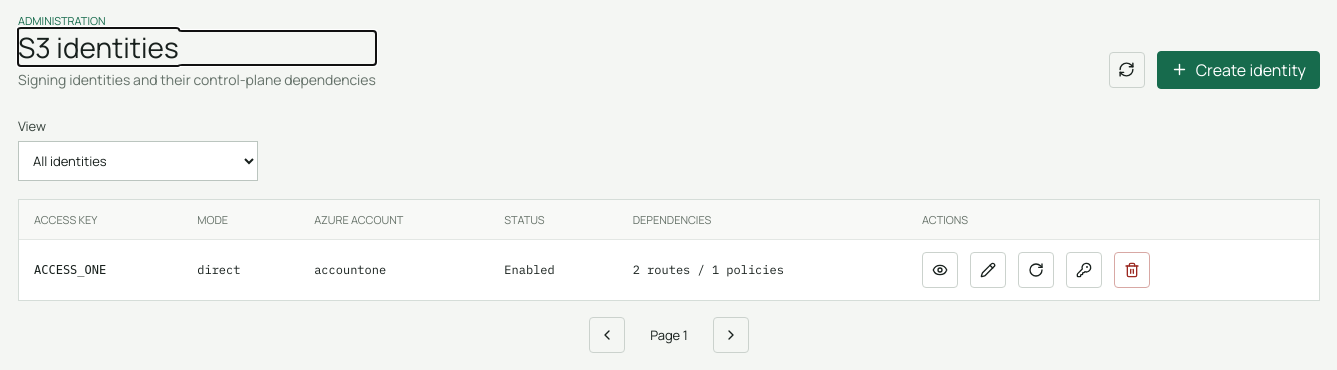
it: IdentitiesPage › moves through server-backed identity pages and resets the cursor when filtering
Expected: the text "ACCESS_ONE" is shown, [34,263,106,277]
Expected: the button named "Previous identity page" is disabled, [589,317,625,353]
Step 1. Click the button named "Next identity page" → (731, 335), box [713,317,749,353]
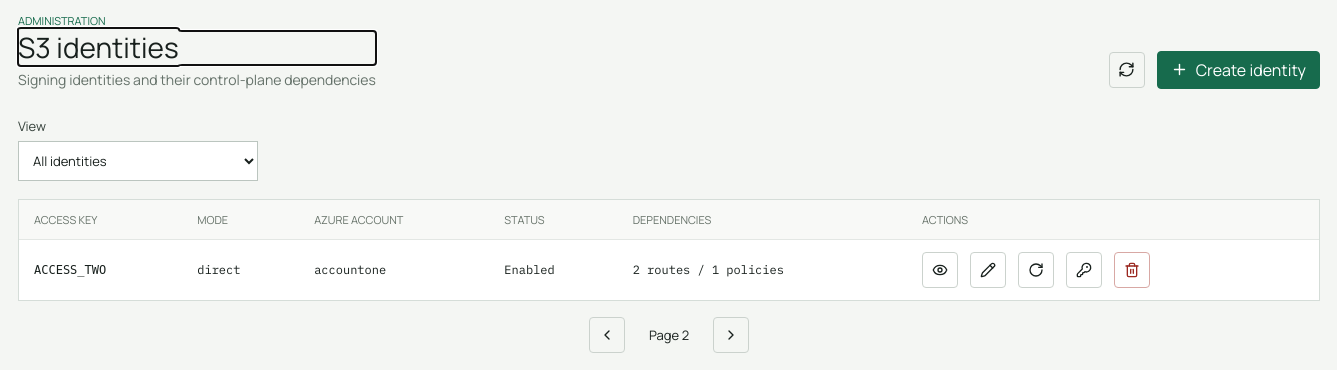
Now the text "ACCESS_TWO" is shown, box [34,263,106,277]
Now the text "Page 2" is shown, box [649,326,689,344]
Step 2. Select "Direct mappings" in the dropdown labelled "View" → (138, 161), box [18,141,258,181]
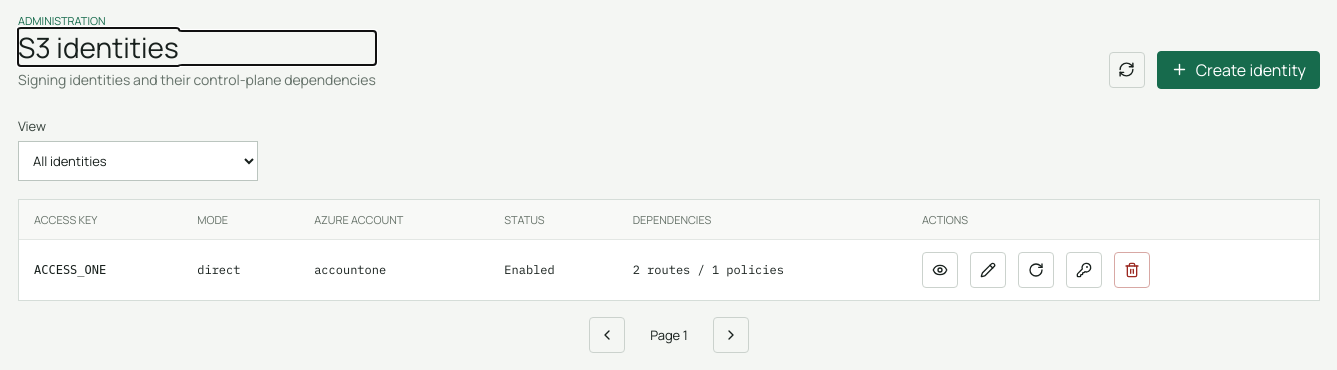
Now the text "Page 1" is shown, box [650,326,688,344]
